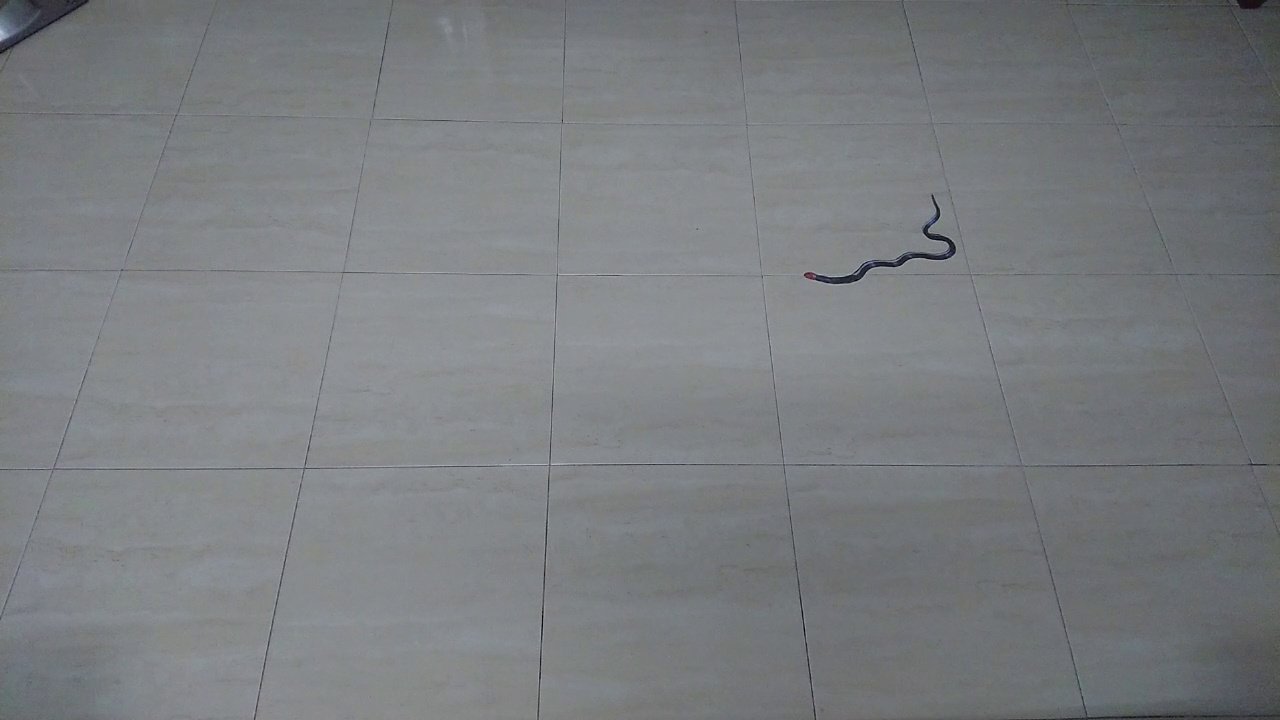snake: (794, 185, 966, 291)
